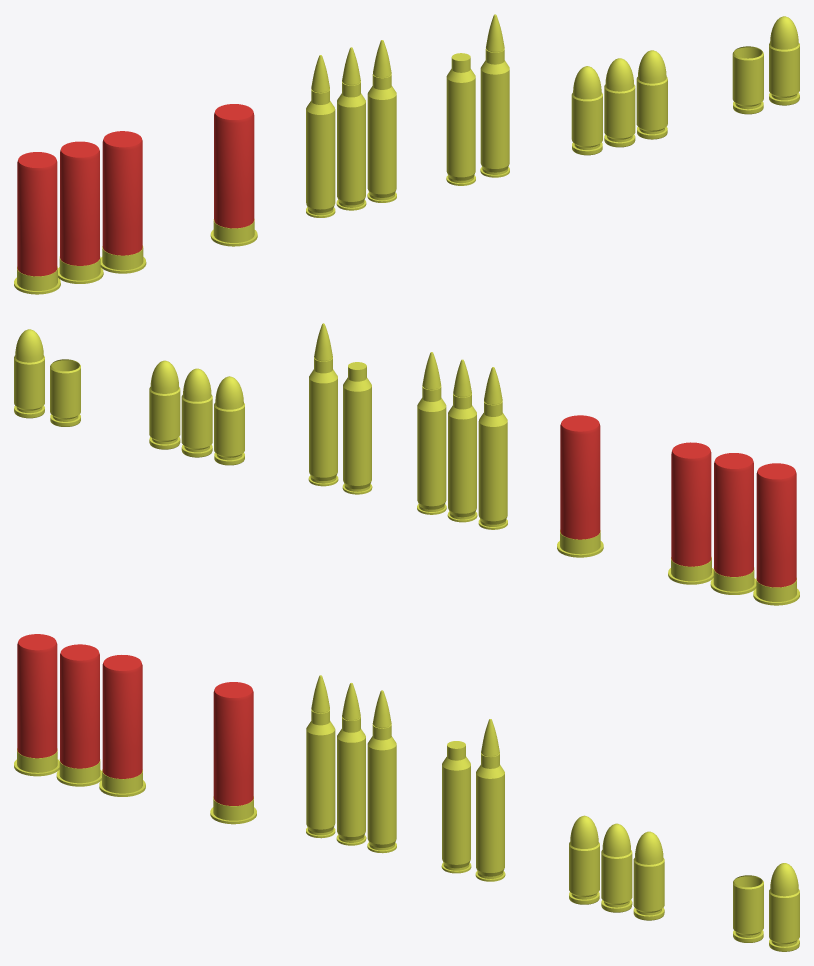
File: ammo_3.fbx
The picture shows the model from 3 angles, top to bottom: view 1: azimuth 30°, elevation 25°; view 2: azimuth 150°, elevation 25°; view 3: azimuth 330°, elevation 25°; orthographic projection.
Parts seen in each view (by area): view 1: Cylinder.012, Cylinder.013, Sphere.003, Cylinder.010, Cylinder.003, Cylinder.005, Sphere.001, Sphere; view 2: Cylinder.012, Cylinder.013, Sphere.003, Cylinder.010, Cylinder.003, Cylinder.005, Sphere.001, Sphere; view 3: Cylinder.012, Cylinder.013, Sphere.003, Cylinder.010, Cylinder.003, Cylinder.005, Sphere.001, Sphere.
Boxes of the visible parts, <box> form: Cylinder.012: <box>14,131,146,294</box>; Cylinder.013: <box>306,40,396,217</box>; Sphere.003: <box>571,50,667,155</box>; Cylinder.010: <box>210,104,257,246</box>; Cylinder.003: <box>480,14,509,177</box>; Cylinder.005: <box>446,53,475,185</box>; Sphere.001: <box>769,16,799,105</box>; Sphere: <box>732,46,763,114</box>; Cylinder.012: <box>668,442,799,605</box>; Cylinder.013: <box>417,352,507,529</box>; Sphere.003: <box>149,360,244,465</box>; Cylinder.010: <box>557,415,603,557</box>; Cylinder.003: <box>308,323,338,486</box>; Cylinder.005: <box>342,362,372,494</box>; Sphere.001: <box>14,329,44,418</box>; Sphere: <box>50,359,80,426</box>; Cylinder.012: <box>14,634,145,796</box>; Cylinder.013: <box>306,675,396,853</box>; Sphere.003: <box>569,815,664,920</box>; Cylinder.010: <box>210,682,256,824</box>; Cylinder.003: <box>475,719,505,881</box>; Cylinder.005: <box>441,741,471,873</box>; Sphere.001: <box>769,863,799,951</box>; Sphere: <box>733,875,763,942</box>.
Size of the model in its own units: 1851 by 361 by 96.25.
